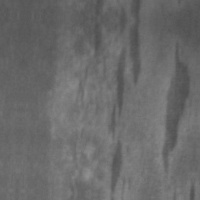inclusion: (103, 20, 145, 195), (158, 36, 195, 177), (88, 19, 107, 60)
